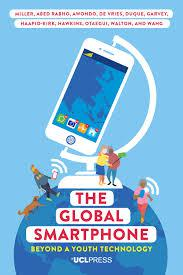Hand: (51, 42, 129, 151)
